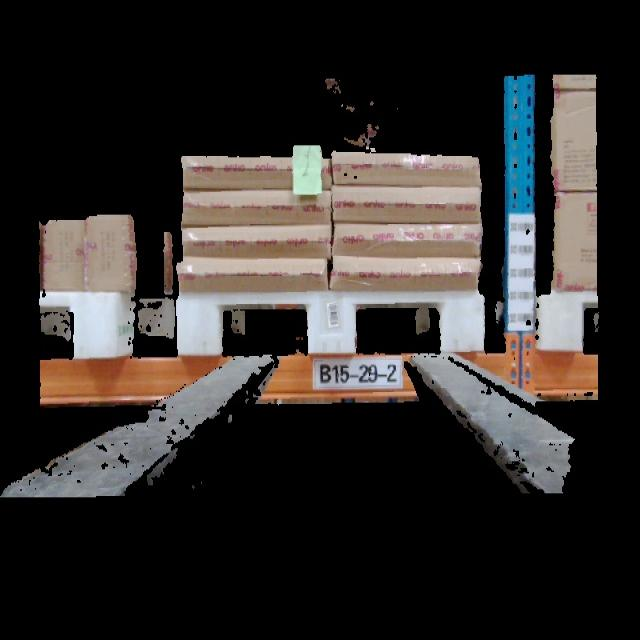block: (306, 295, 358, 355), (73, 295, 122, 358), (537, 296, 584, 356), (178, 296, 223, 356), (440, 296, 486, 354)
front: (175, 292, 486, 357)
